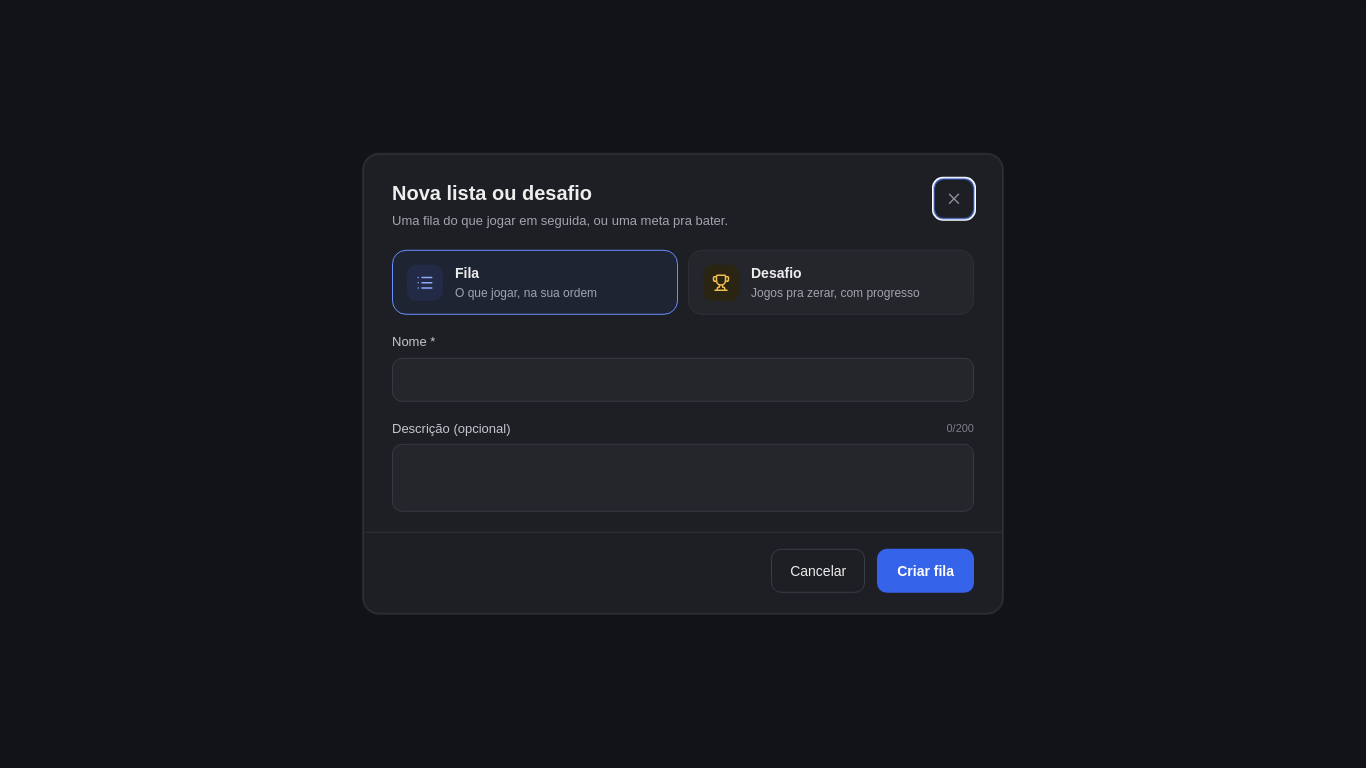
it: NovaListaDialog › exibe as três origens e a ajuda correspondente
What coordinates should you click on to do the following:
click the radio button labelled "Desafio Jogos pra zerar, com progresso"
I would click on:
 (721, 282)
Its box is 688,250 -> 974,315.
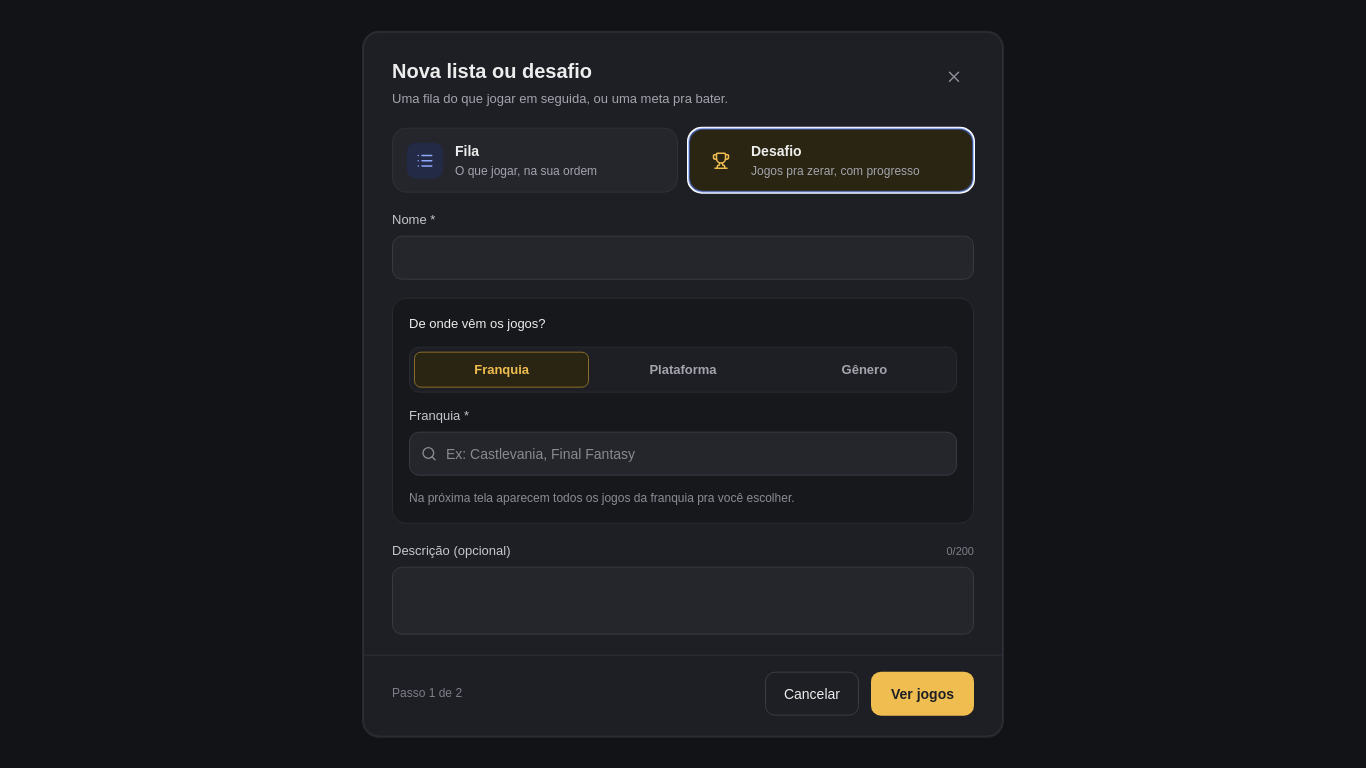
Check: the text "todos os jogos da franquia" is shown, box 409,491 -> 795,505
What coordinates should you click on to do the following:
click the radio button labelled "Plataforma"
I would click on:
 (683, 370)
Its box is 595,352 -> 771,388.
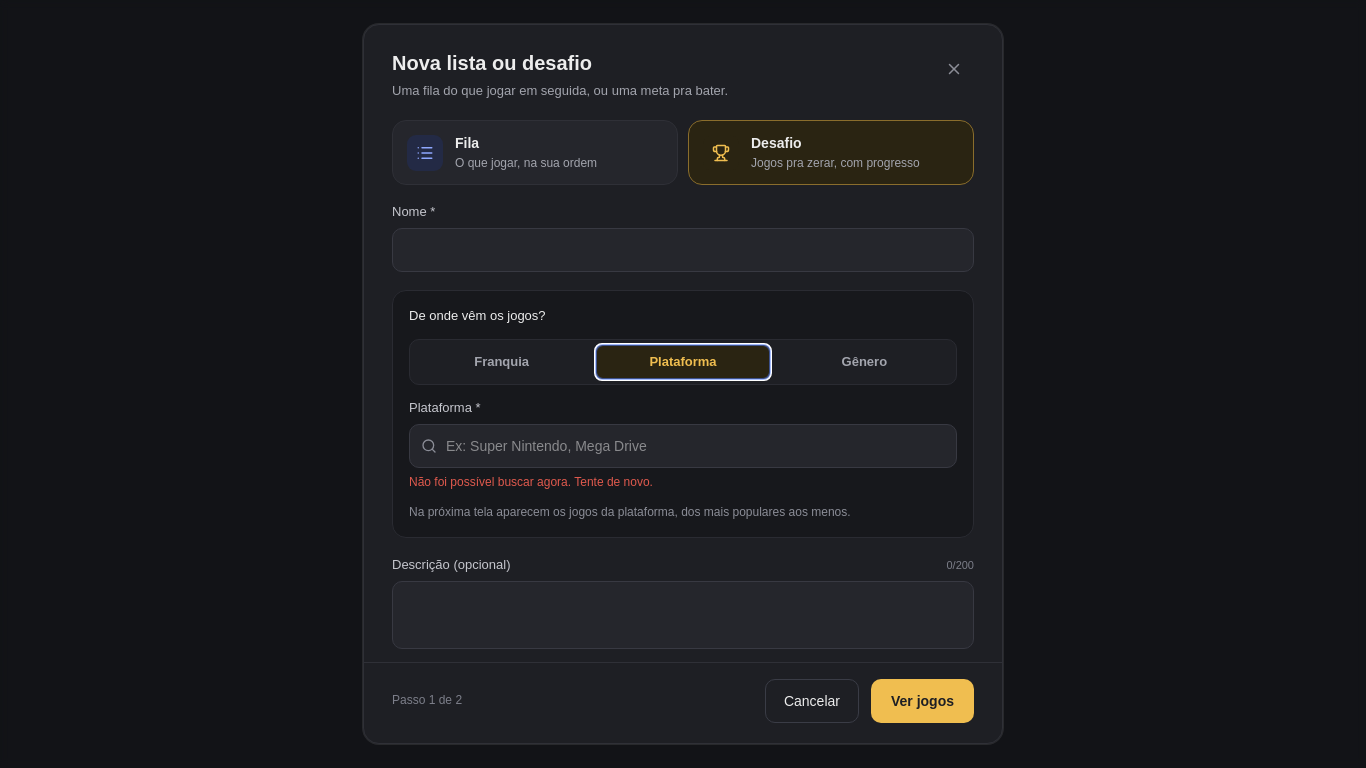
Check: the text "jogos da plataforma" is shown, box 409,505 -> 851,519
What coordinates should you click on to do the following:
click the radio button labelled "Gênero"
I would click on:
 (864, 362)
Its box is 777,344 -> 952,380.
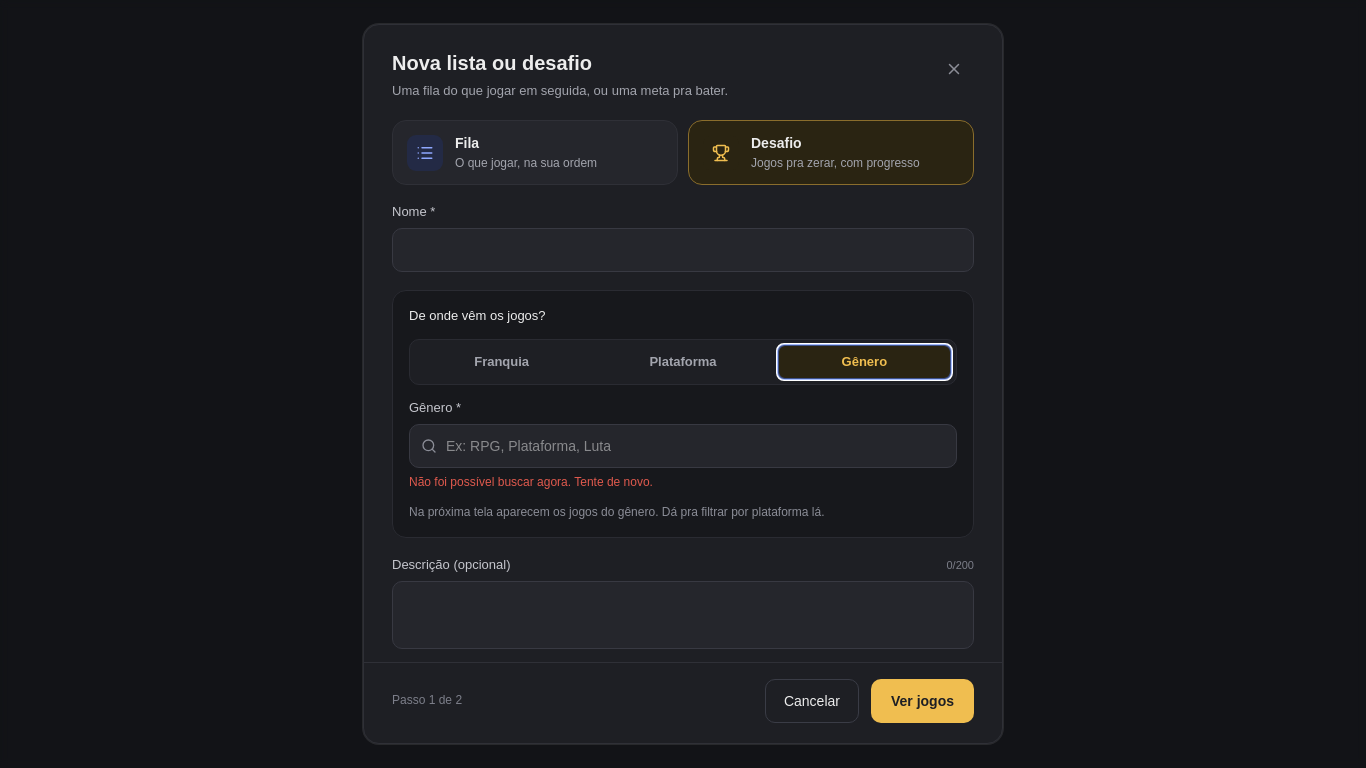
Check: the text "jogos do gênero" is shown, box 409,505 -> 824,519
